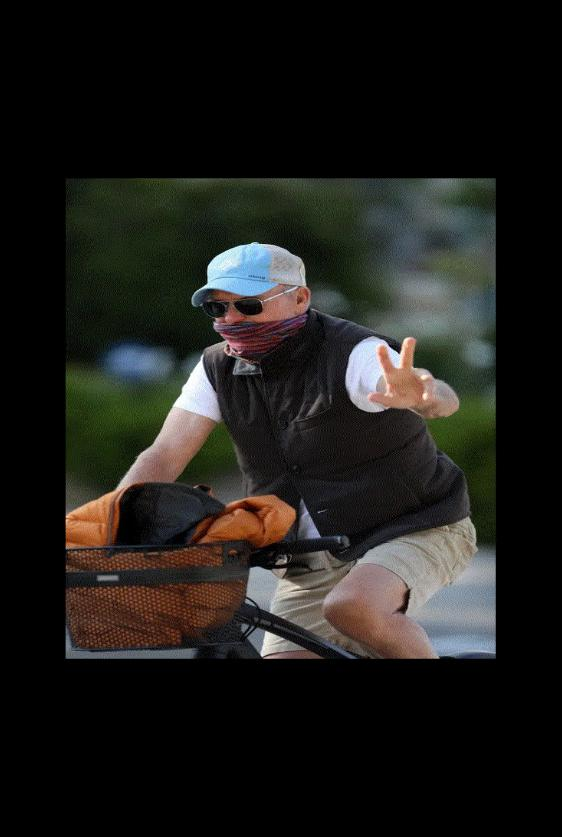mask_weared_incorrect: (200, 298, 304, 343)
